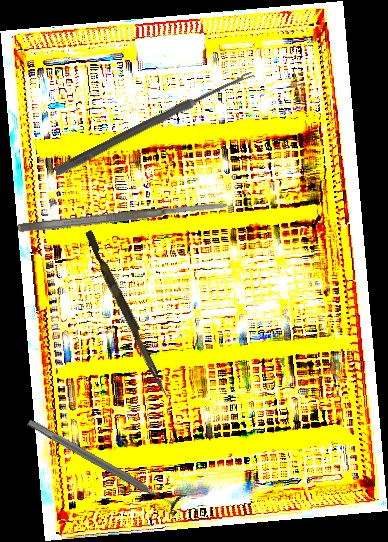Fixation Ring: (22, 409, 187, 519)
Pusher: (80, 229, 175, 399)
Spatula Surgical: (16, 199, 231, 235)
Surgical Spoon: (53, 67, 255, 178)
